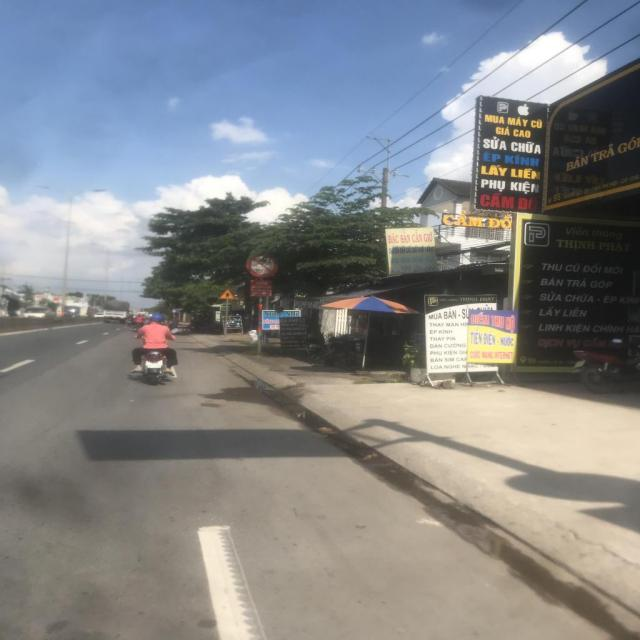cam_cac_loai_xe_3_banh: (245, 253, 279, 278)
giao_nhau_voi_duong_khong_uu_tien: (219, 288, 237, 300)
